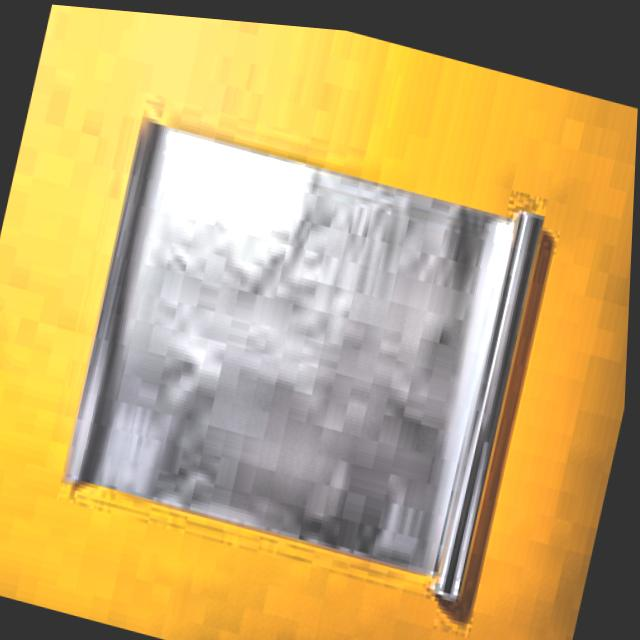Foil: (28, 71, 575, 623)
